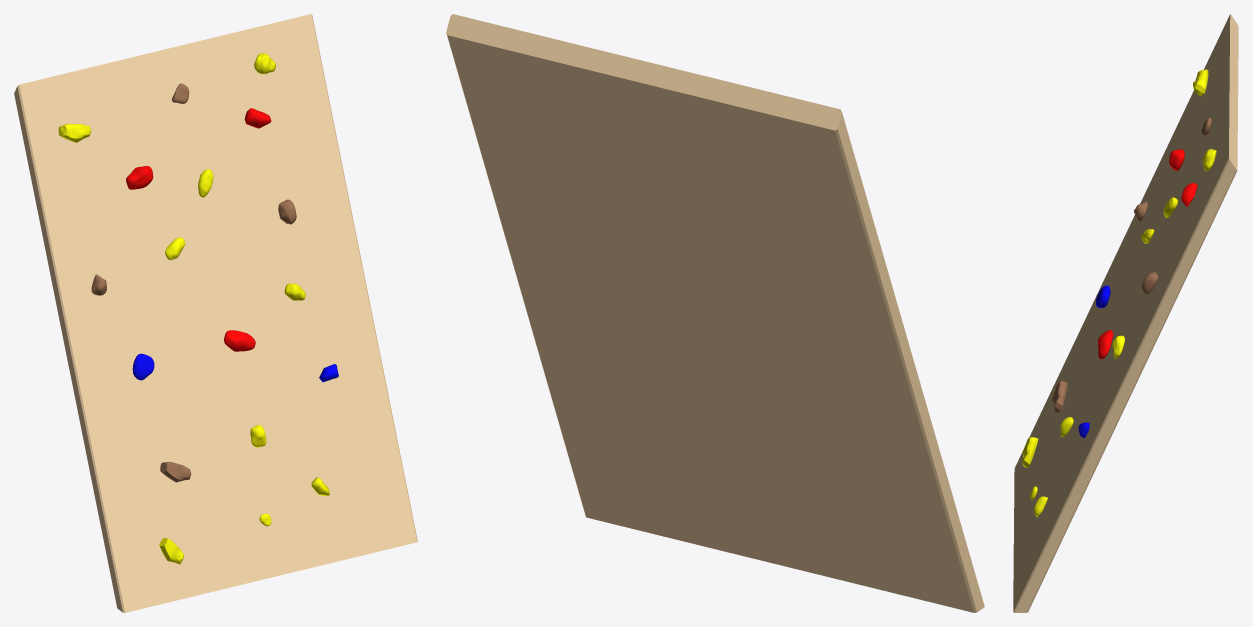
3 renders of one model, left to right at view 1: azimuth 30°, elevation 25°; view 2: azimuth 150°, elevation 25°; view 3: azimuth 270°, elevation 25°, orthographic. The views are drawn at different scales.
Parts seen in each view (by area): view 1: Box079, Ladder; view 2: Box079; view 3: Box079, Ladder, Box13, Box04.
Boxes of the visible parts, x1=… form: Box079: x1=14, y1=14, x2=417, y2=612; Ladder: x1=58, y1=53, x2=338, y2=526; Box079: x1=446, y1=14, x2=984, y2=612; Box079: x1=1013, y1=14, x2=1238, y2=612; Ladder: x1=1030, y1=69, x2=1216, y2=499; Box13: x1=1052, y1=381, x2=1067, y2=412; Box04: x1=1022, y1=437, x2=1038, y2=467.
Bounding box in the file's own units: 46.07 × 30.19 × 67.16.
